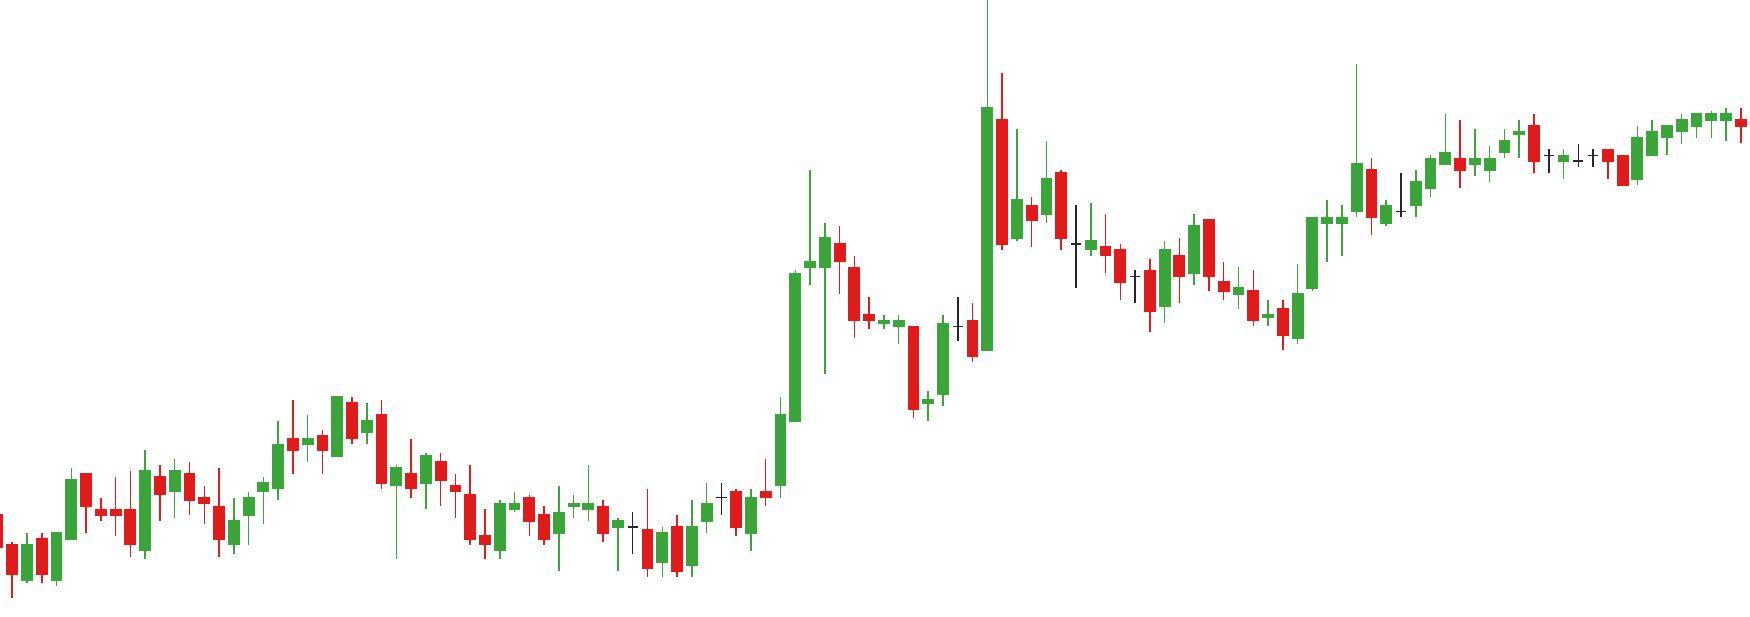buy: (242, 441, 403, 558)
sell: (802, 4, 1010, 298)
